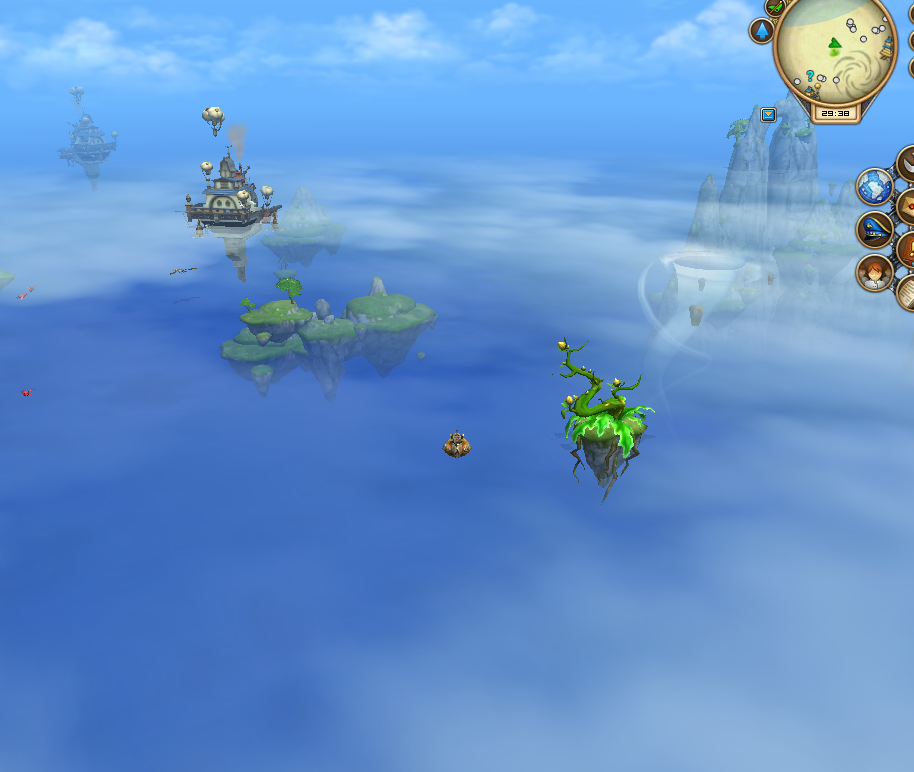dandelion-empty: (540, 326, 663, 496)
